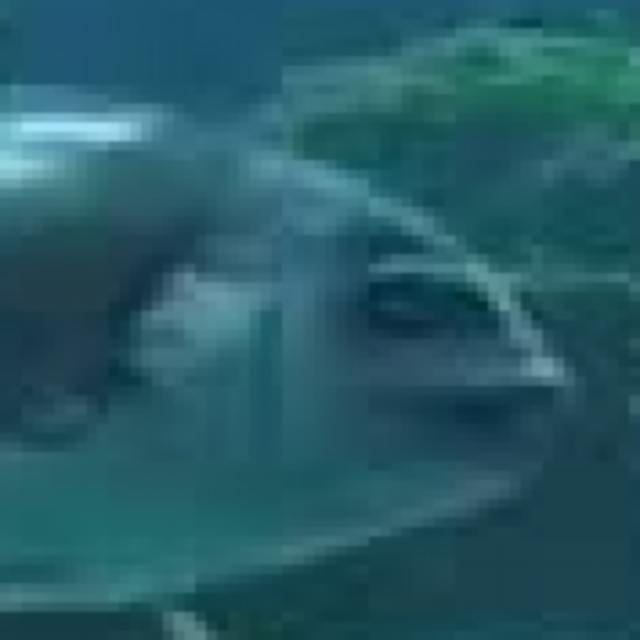fish: (11, 9, 640, 640)
